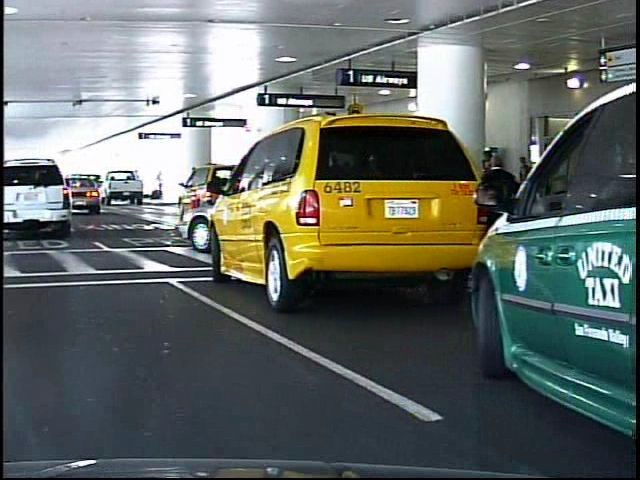person: (475, 149, 515, 287), (153, 170, 162, 199)
